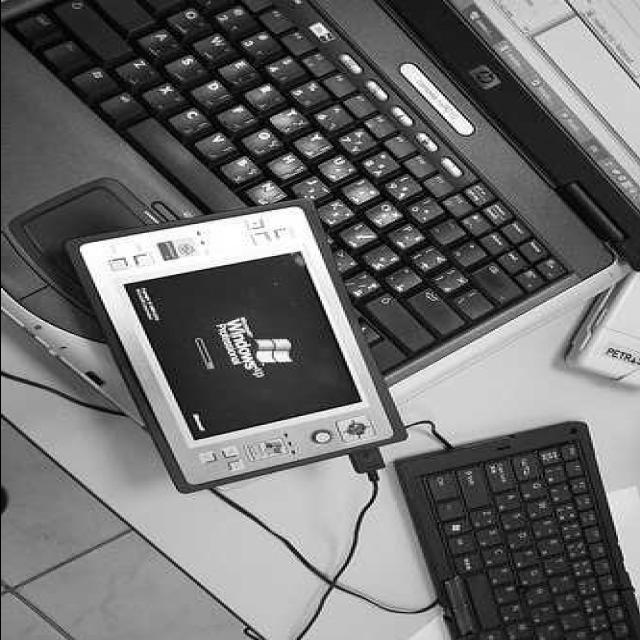laptop: (0, 0, 640, 402)
